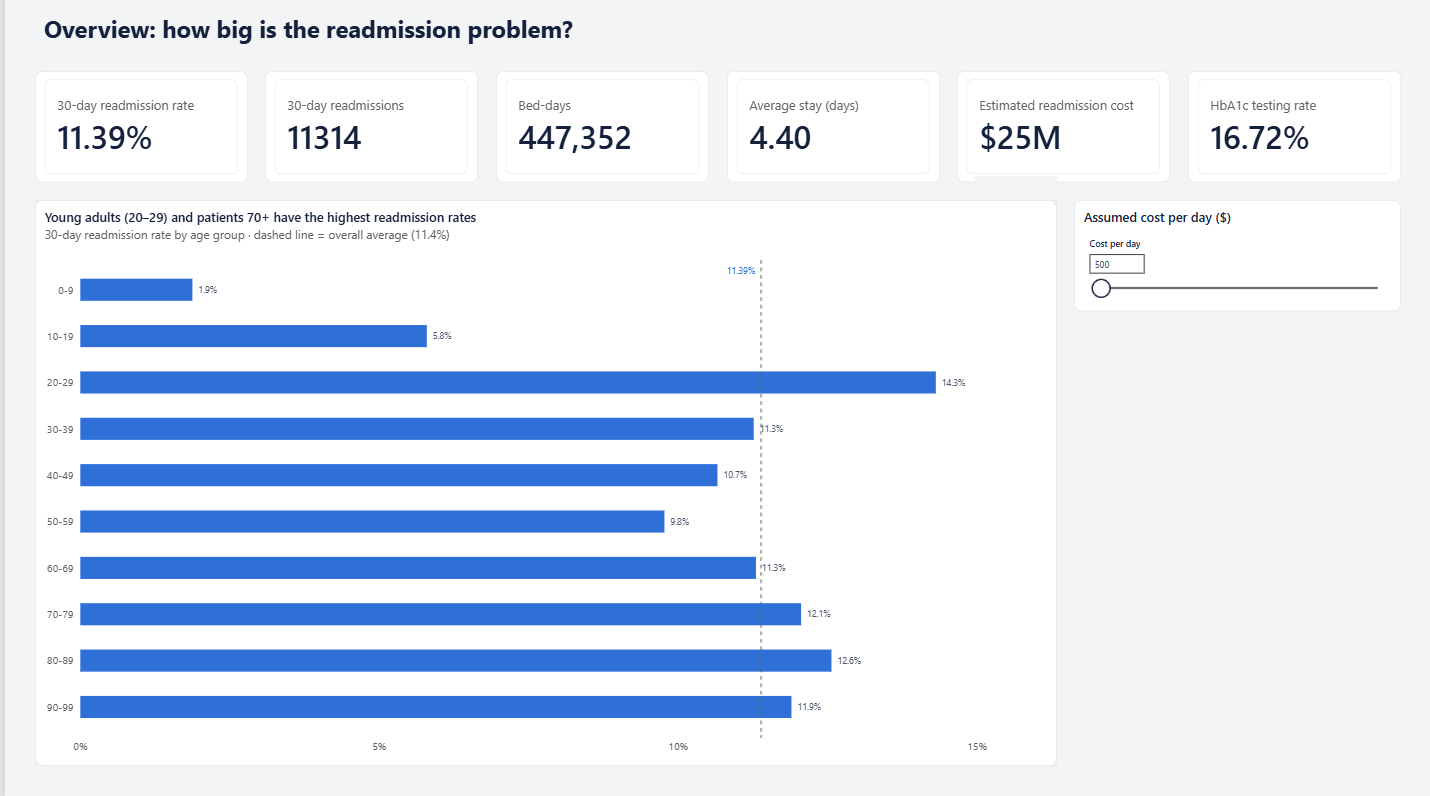

The dashboard page shown, as its layout file describes it:
{"tool":"powerbi","page":{"name":"Overview","canvas":[1920,1080],"ordinal":0},"visuals":[{"type":"cardVisual","fields":{"Data":["FCT_ENCOUNTER.Readmission Rate 30d"]},"box":[40,104,286.7,150],"z":0},{"type":"slicer","title":"Assumed cost per day ($)","fields":{"Values":["Cost per day.Cost per day"]},"box":[1440,278,440,150],"z":1000},{"type":"cardVisual","fields":{"Data":["FCT_ENCOUNTER.Readmissions 30d"]},"box":[350.7,104,286.7,150],"z":2000},{"type":"cardVisual","fields":{"Data":["FCT_ENCOUNTER.ALOS"]},"box":[972,104,286.7,150],"z":3000},{"type":"cardVisual","fields":{"Data":["FCT_ENCOUNTER.Bed Days"]},"box":[661.3,104,286.7,150],"z":4000},{"type":"cardVisual","fields":{"Data":["FCT_ENCOUNTER.A1c Testing Rate"]},"box":[1593.3,104,286.7,150],"z":5000},{"type":"cardVisual","fields":{"Data":["FCT_ENCOUNTER.Est Readmission Cost"]},"box":[1282.7,104,286.7,150],"z":6000},{"type":"clusteredBarChart","title":"Young adults (20–29) and patients 70+ have the highest readmission rates","fields":{"Category":["DIM_AGE_GROUP.AGE_GROUP"],"Y":["FCT_ENCOUNTER.Readmission Rate 30d"]},"box":[40,278,1376,762],"z":7000},{"type":"textbox","box":[40.4,14.4,1839.3,66.3],"z":20000}]}

Visuals, with their boxes in screenshot pixels (x1, y1, x2, y2), scaled from the page's 1920x1080 canvas onto the 1430x796 screenshot:
cardVisual - FCT_ENCOUNTER.Readmission Rate 30d: [30, 77, 243, 187]
"Assumed cost per day ($)" slicer: [1072, 205, 1400, 315]
cardVisual - FCT_ENCOUNTER.Readmissions 30d: [261, 77, 475, 187]
cardVisual - FCT_ENCOUNTER.ALOS: [724, 77, 937, 187]
cardVisual - FCT_ENCOUNTER.Bed Days: [493, 77, 706, 187]
cardVisual - FCT_ENCOUNTER.A1c Testing Rate: [1187, 77, 1400, 187]
cardVisual - FCT_ENCOUNTER.Est Readmission Cost: [955, 77, 1169, 187]
"Young adults (20–29) and patients 70+ have the highest readmission rates" clusteredBarChart: [30, 205, 1055, 767]
textbox: [30, 11, 1400, 59]
